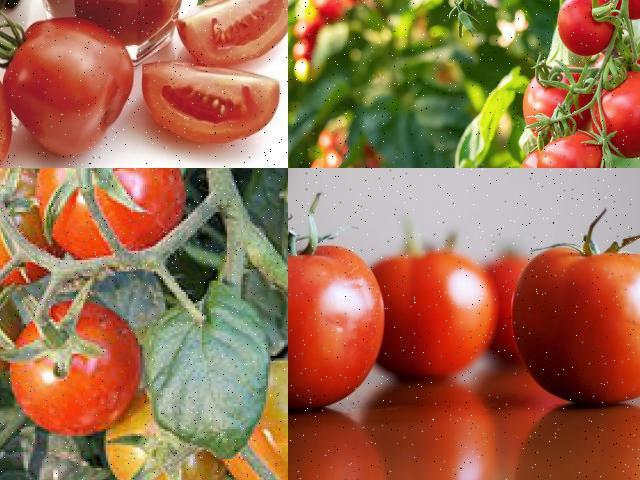tomato: (515, 237, 639, 404), (7, 10, 135, 167), (374, 251, 504, 388), (288, 244, 395, 410), (16, 306, 140, 434), (37, 168, 182, 259), (0, 177, 72, 288), (586, 68, 639, 159), (522, 70, 588, 136), (558, 0, 624, 56), (529, 131, 616, 167), (515, 159, 539, 167)
